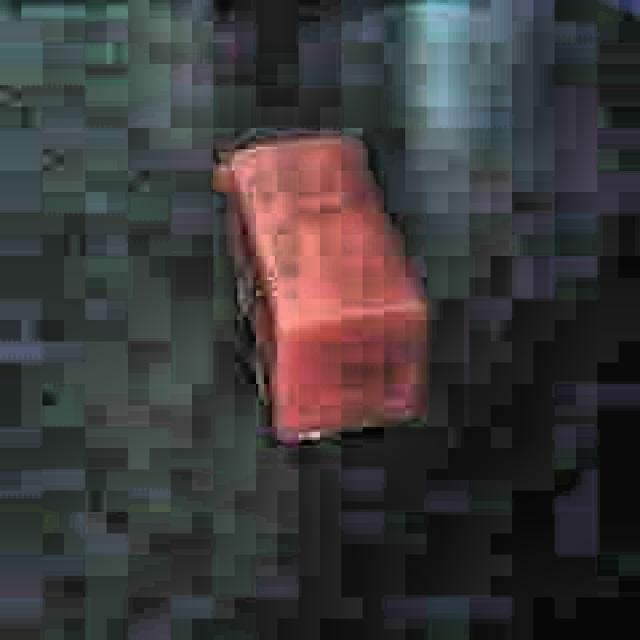bus: (206, 126, 431, 446)
